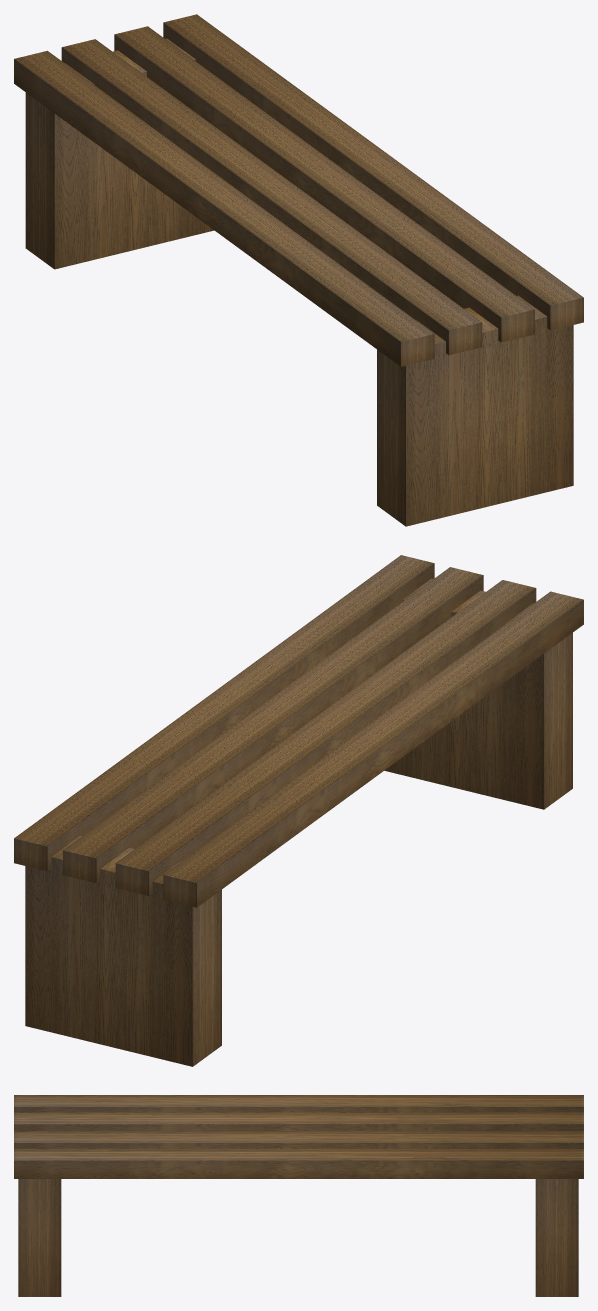
The model's file is Obstacle_045.obj.
3 renders of one model, top to bottom at view 1: azimuth 30°, elevation 25°; view 2: azimuth 150°, elevation 25°; view 3: azimuth 270°, elevation 25°, orthographic. The views are drawn at different scales.
Visible parts, largest first — view 1: Box065, Box066, Box064; view 2: Box065, Box064, Box066; view 3: Box065, Box064, Box066.
Boxes of the visible parts, box(x1,y1,x2,y2) form: Box065: box(14, 14, 583, 366); Box066: box(377, 295, 573, 526); Box064: box(25, 38, 214, 269); Box065: box(14, 555, 583, 907); Box064: box(25, 836, 221, 1066); Box066: box(384, 578, 572, 809); Box065: box(14, 1095, 583, 1178); Box064: box(535, 1179, 578, 1296); Box066: box(18, 1179, 61, 1296).
Size of the model in its own units: 21.48 by 21.16 by 78.74.
